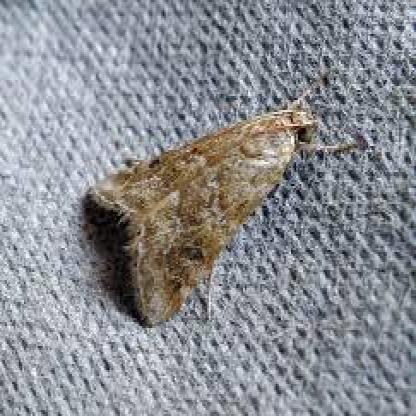Hellula undalis: (83, 53, 382, 342)
